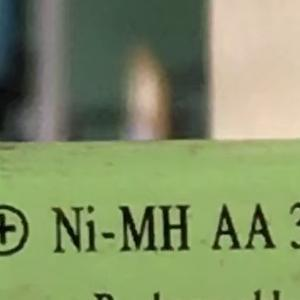NI-MH: (42, 195, 198, 263)
